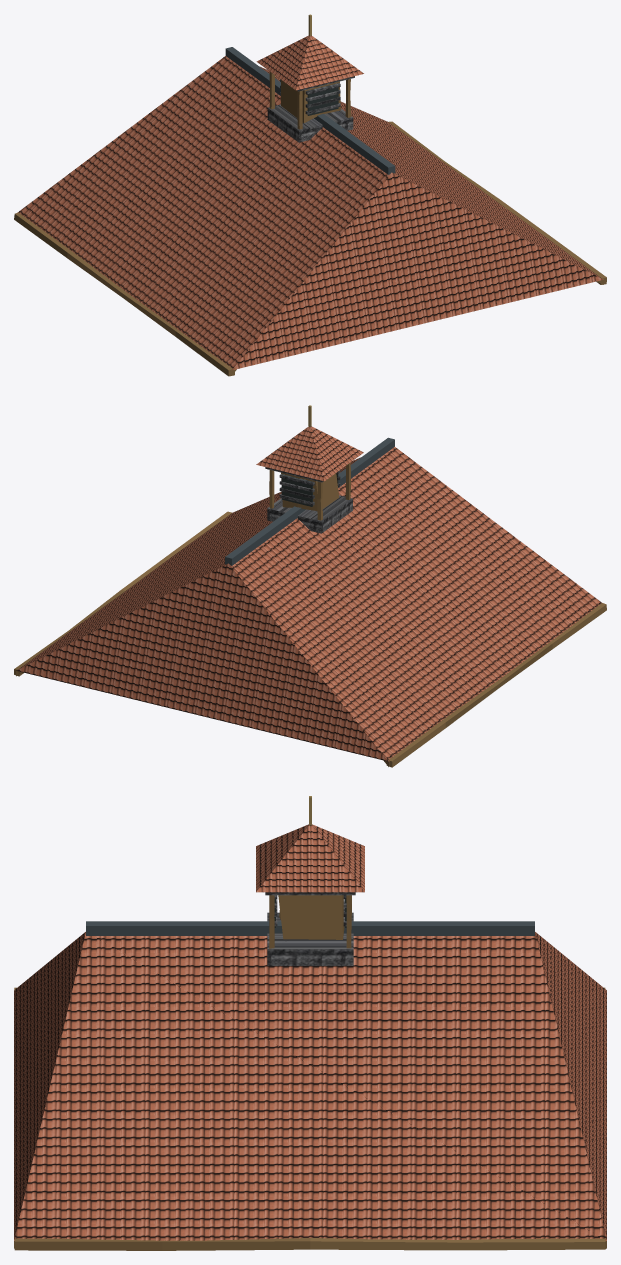
File: town_Roof_guard_3_halfhip.glb
The picture shows the model from 3 angles, top to bottom: view 1: azimuth 30°, elevation 25°; view 2: azimuth 150°, elevation 25°; view 3: azimuth 270°, elevation 25°; orthographic projection. The views are drawn at different scales.
Parts seen in each view (by area): view 1: town_Roof_guard_3_halfhip.005; view 2: town_Roof_guard_3_halfhip.005; view 3: town_Roof_guard_3_halfhip.005.
Part boxes in pixels (bbox=[...]): town_Roof_guard_3_halfhip.005: bbox=[14, 14, 606, 376]; town_Roof_guard_3_halfhip.005: bbox=[14, 405, 606, 767]; town_Roof_guard_3_halfhip.005: bbox=[14, 796, 606, 1250].
Size of the model in its own units: 7.13 by 4.26 by 7.
3 materials, 2 textured.
